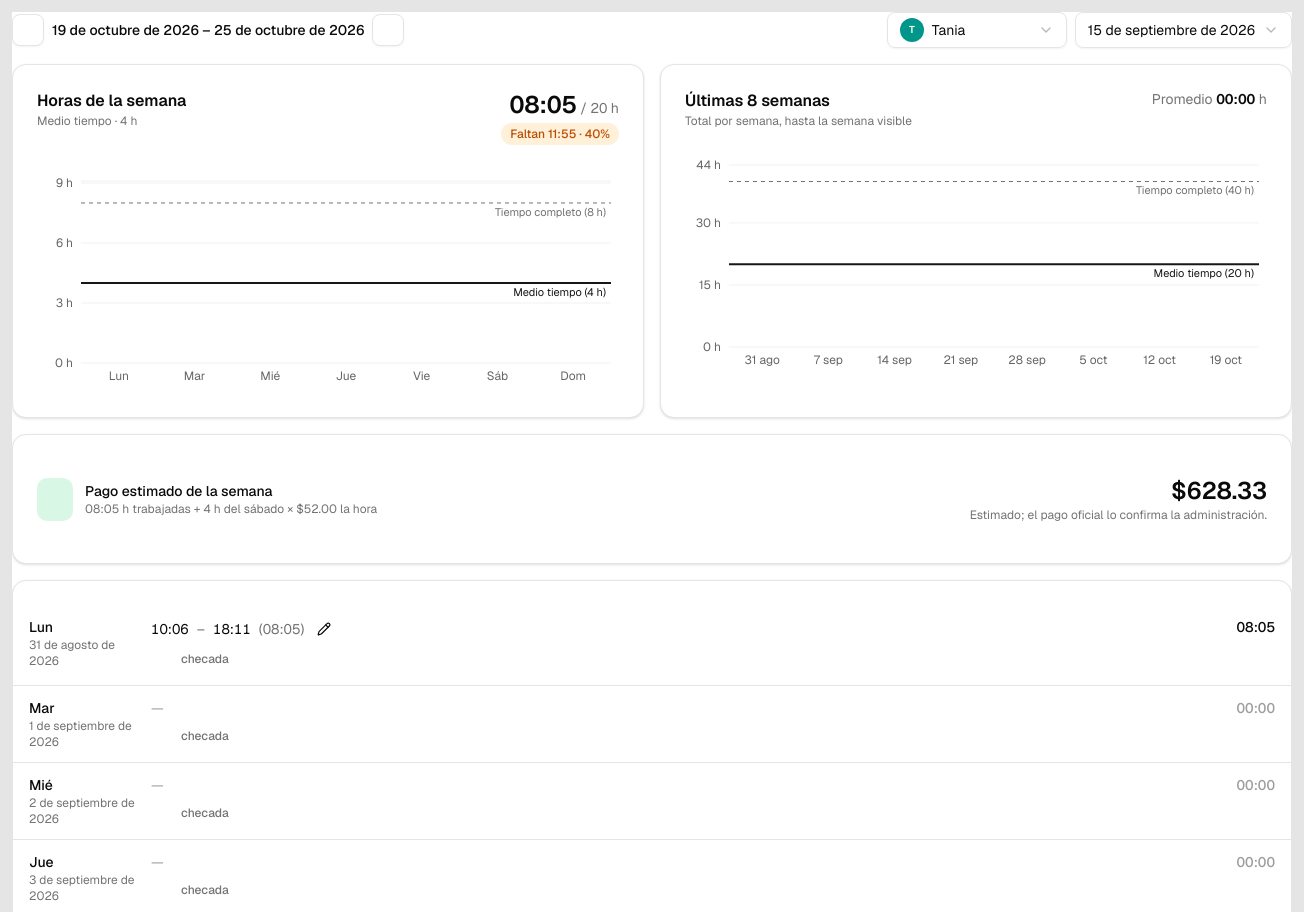
Test: HoursView › admin con jornada que mira a alguien sin jornada: la gráfica no le presta la suya (review PR #108)
Expected: the element with test id "week-chart" shows "Medio tiempo · 4 h", [37,113,138,129]
Click the dropdown named "Empleado": point(977, 30) [887,12,1067,48]
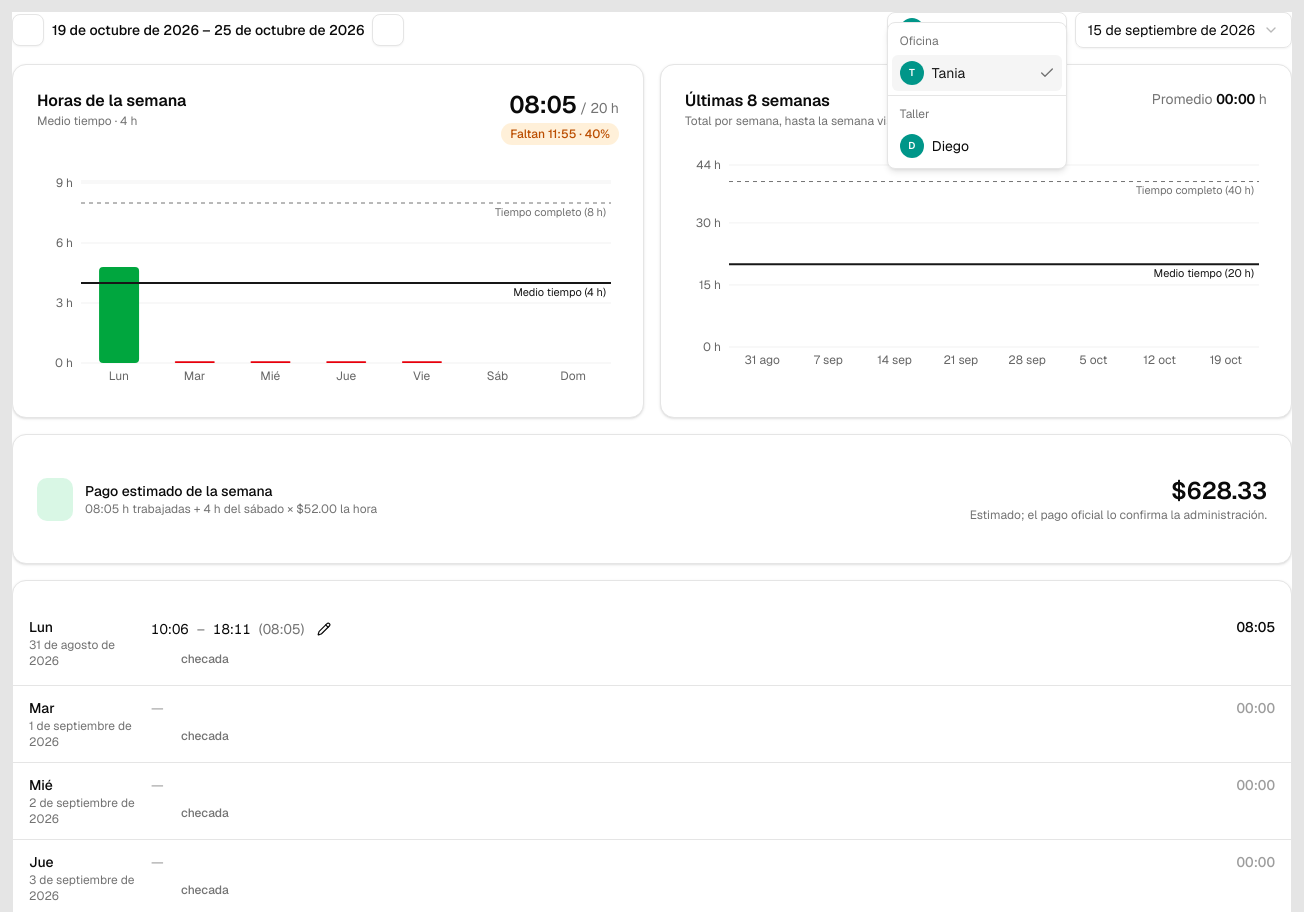
Click the option "D Diego": point(934, 146) [900,134,969,158]
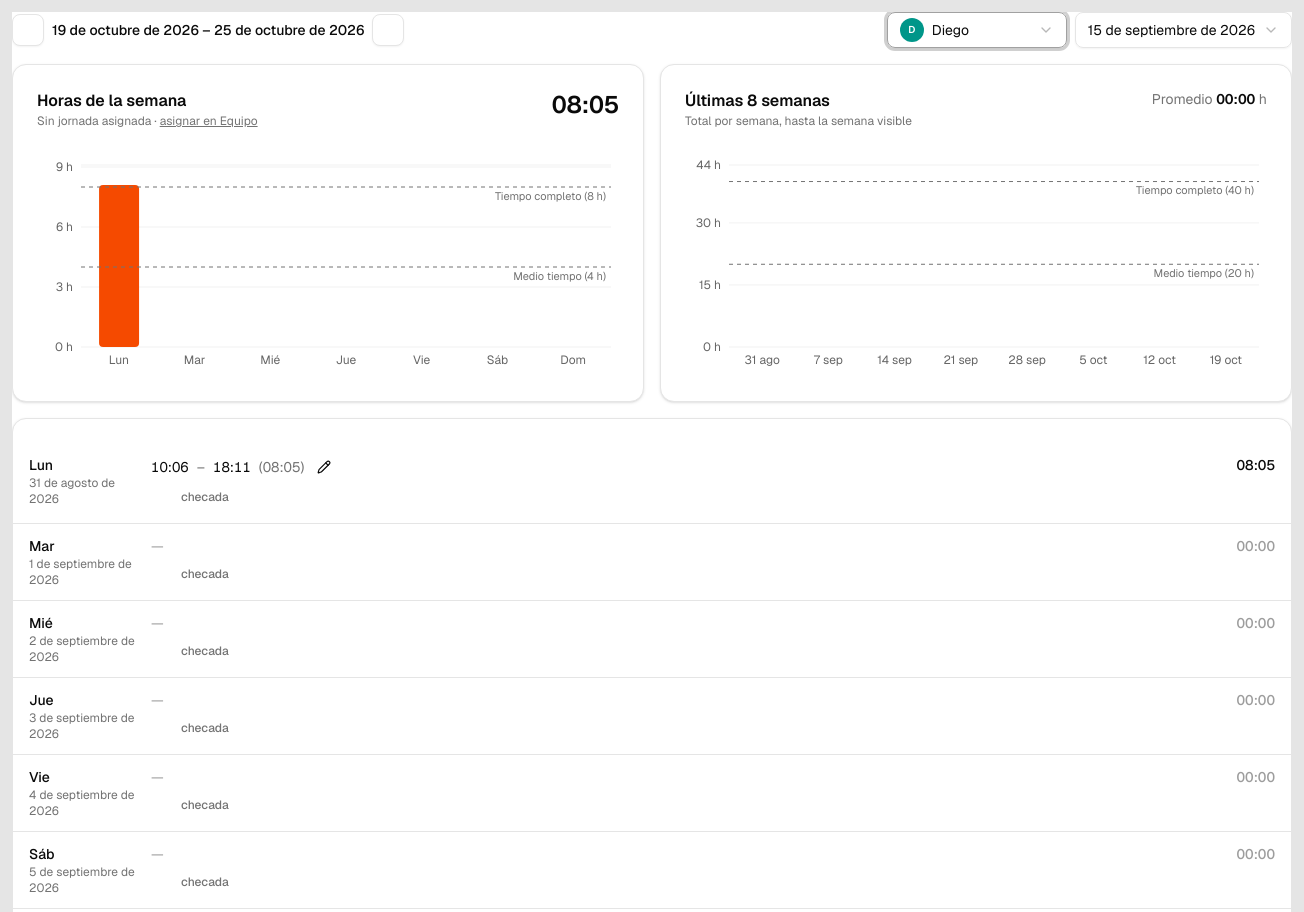
Expected: the element with test id "week-chart" shows "Sin jornada asignada", [37,113,151,129]
Expected: the element with test id "week-chart" no longer shows "/ 20 h", [12,64,644,402]
Expected: the element with test id "week-chart" no longer shows "Faltan", [12,64,644,402]
